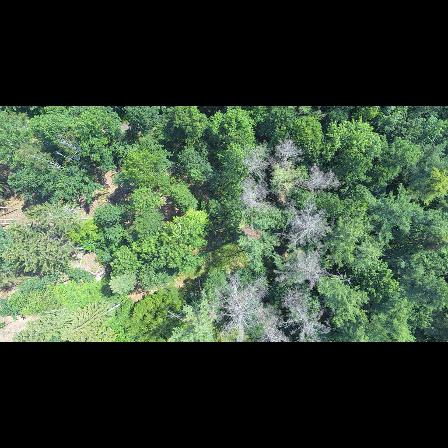Dead: (214, 272, 260, 339), (272, 248, 336, 288), (284, 292, 335, 341), (284, 209, 331, 248), (299, 166, 343, 197), (256, 301, 289, 342), (238, 175, 269, 214), (278, 135, 306, 172), (244, 149, 272, 173)
